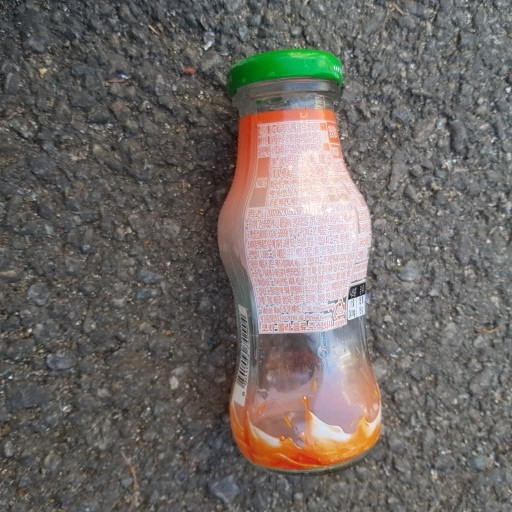Glass_4: (212, 45, 385, 472)
